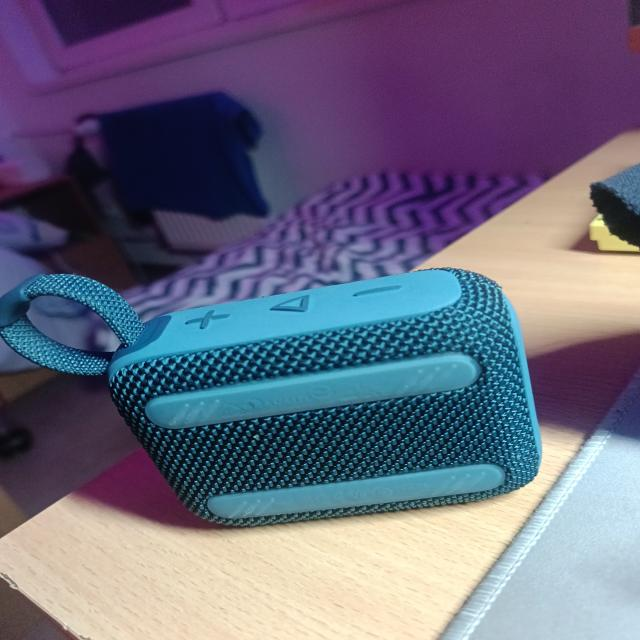column JBL: (0, 269, 560, 532)
